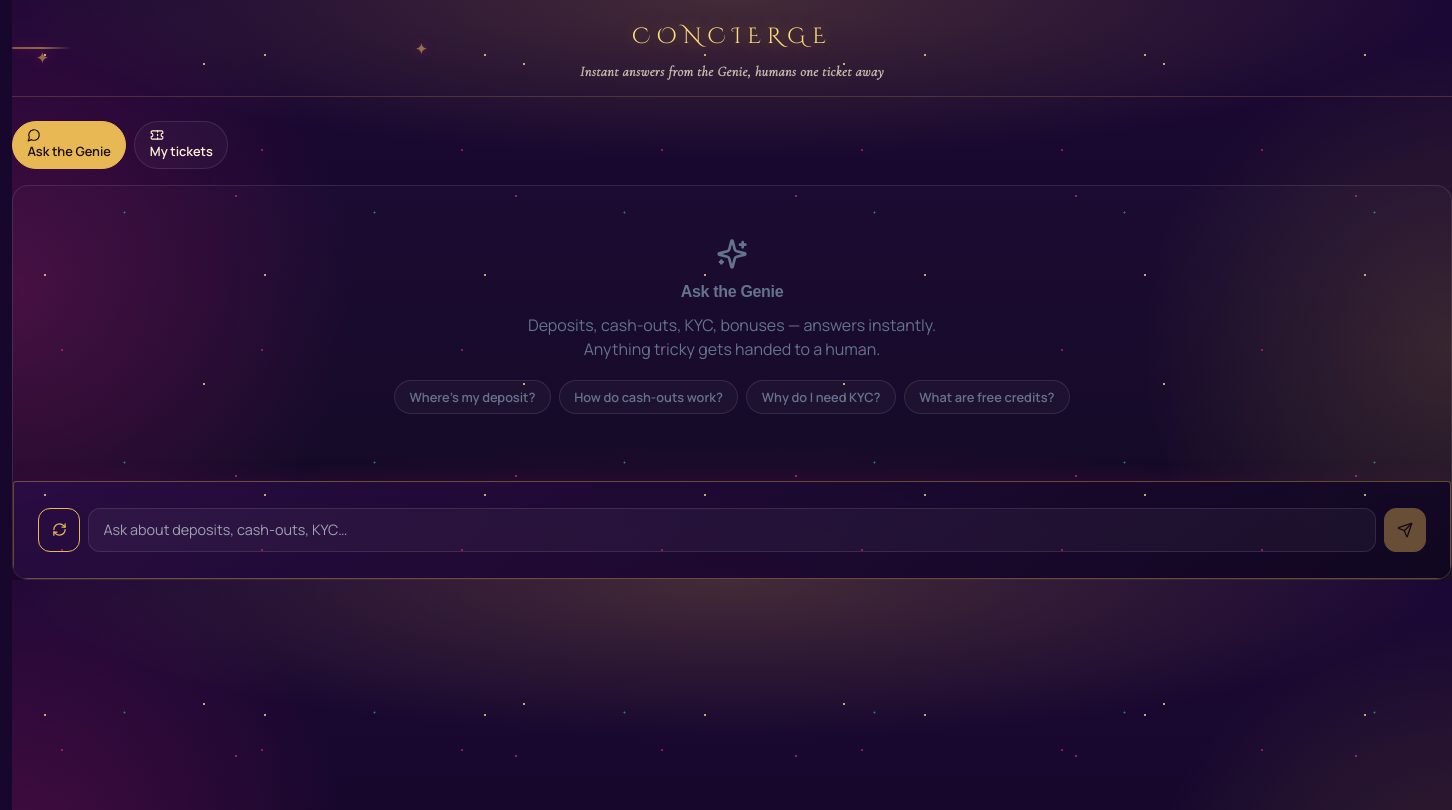
Concierge Genie cycle › asks the Genie and renders the reply (escalation included)
// Quick ask sends immediately.
Click the button with test id "genie-quick" showing "Where's my deposit?": (472, 397) [394,380,551,414]
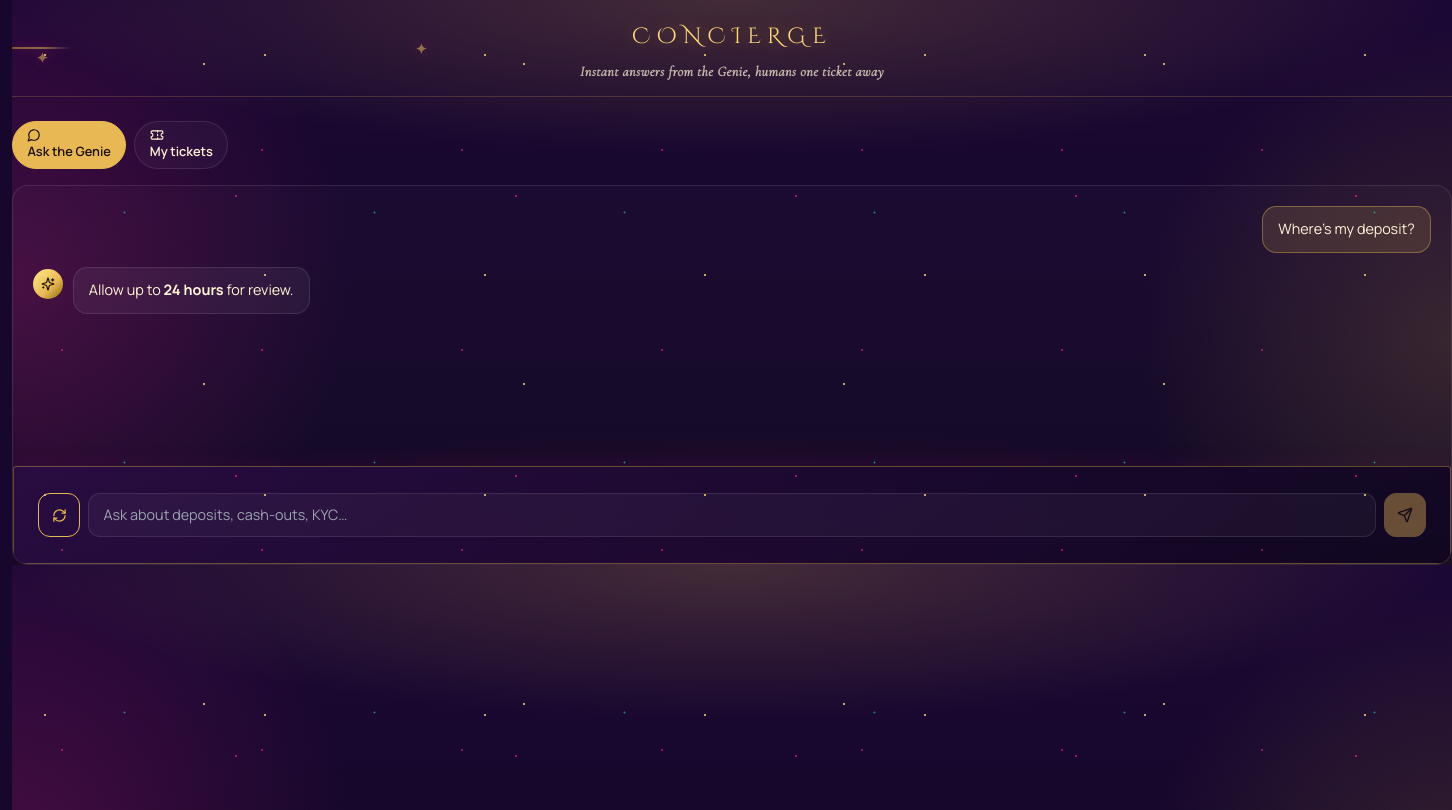
expect the text "Allow up to 24 hours for review." is shown: met, box [89,279,293,302]
// Typed follow-up in the same session, escalated to a human.
In the field with test id "genie-input": (732, 515) [88,493,1376,537], type "Still missing!"
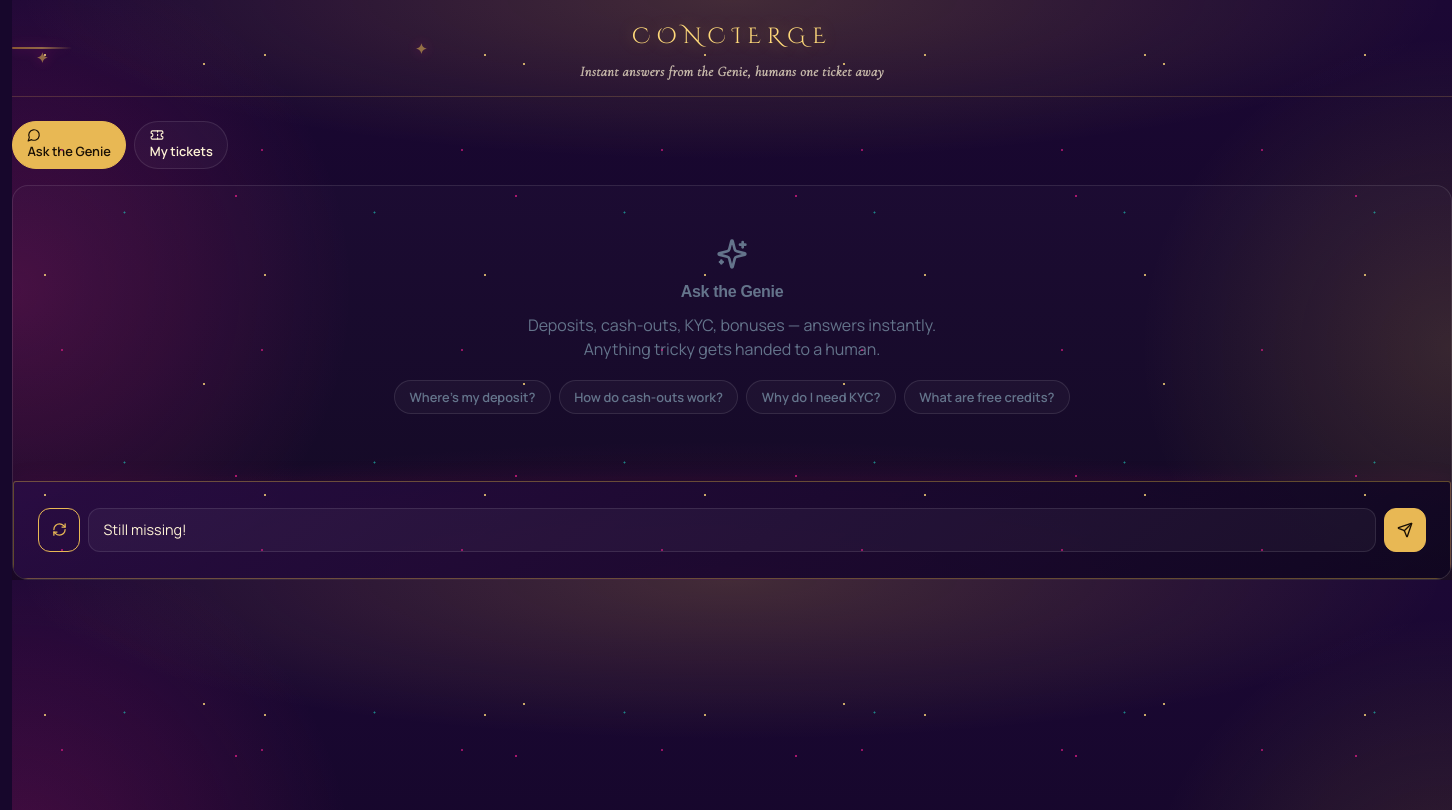
Click the button with test id "genie-send": (1405, 530) [1384,508,1426,552]
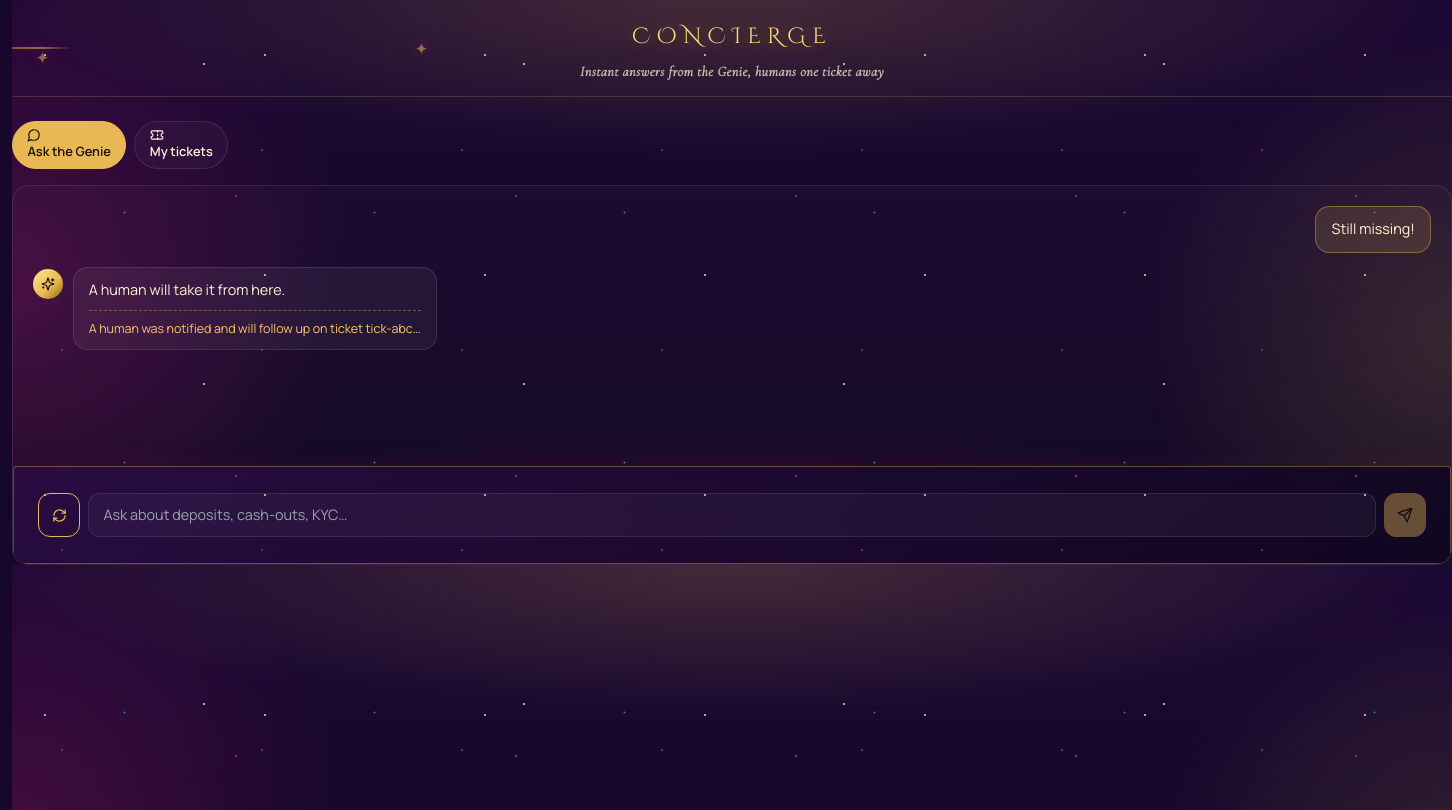
expect the text "A human was notified and will follow up on ticket tick-abc…" is shown: met, box [89,310,421,338]
